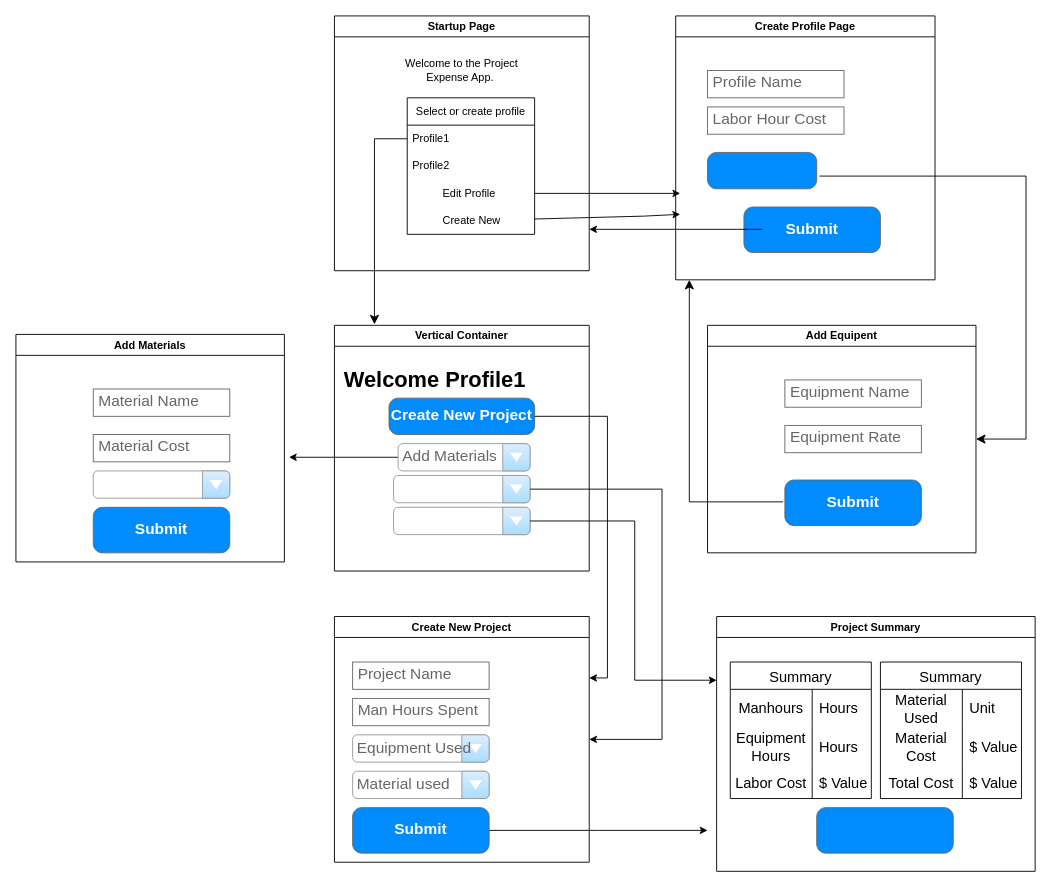
This 1051x887 diagram has some shape labels left out. The centre of each missing label's shape, as x and y in pixels:
"Add Equipment" goes at point (762, 170).
"Edit Project" goes at point (461, 489).
"Export" goes at point (884, 830).
"Material Unit" goes at point (161, 484).
"View Project" goes at point (461, 520).
